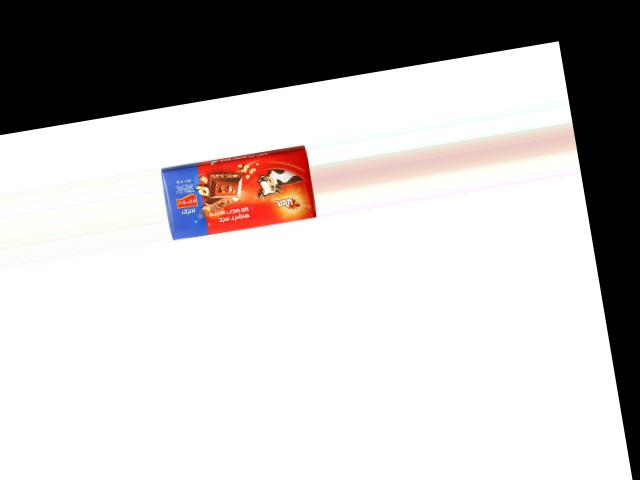chocolate: (160, 138, 316, 239)
